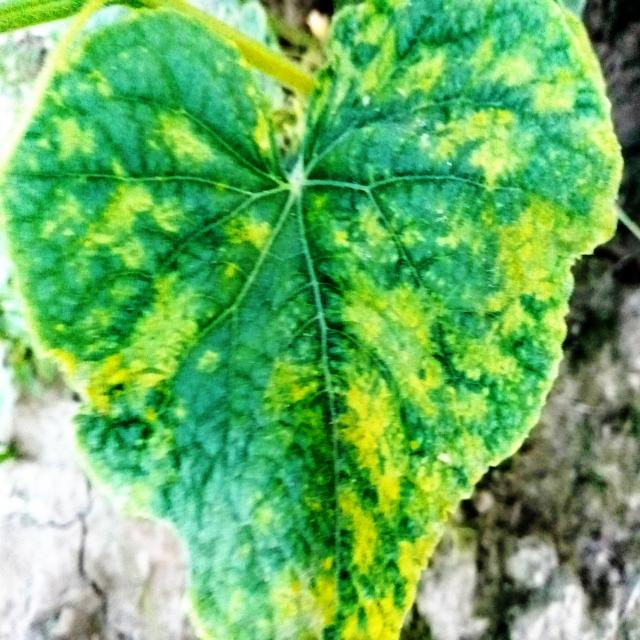Downy-Mildew: (0, 0, 624, 640)
